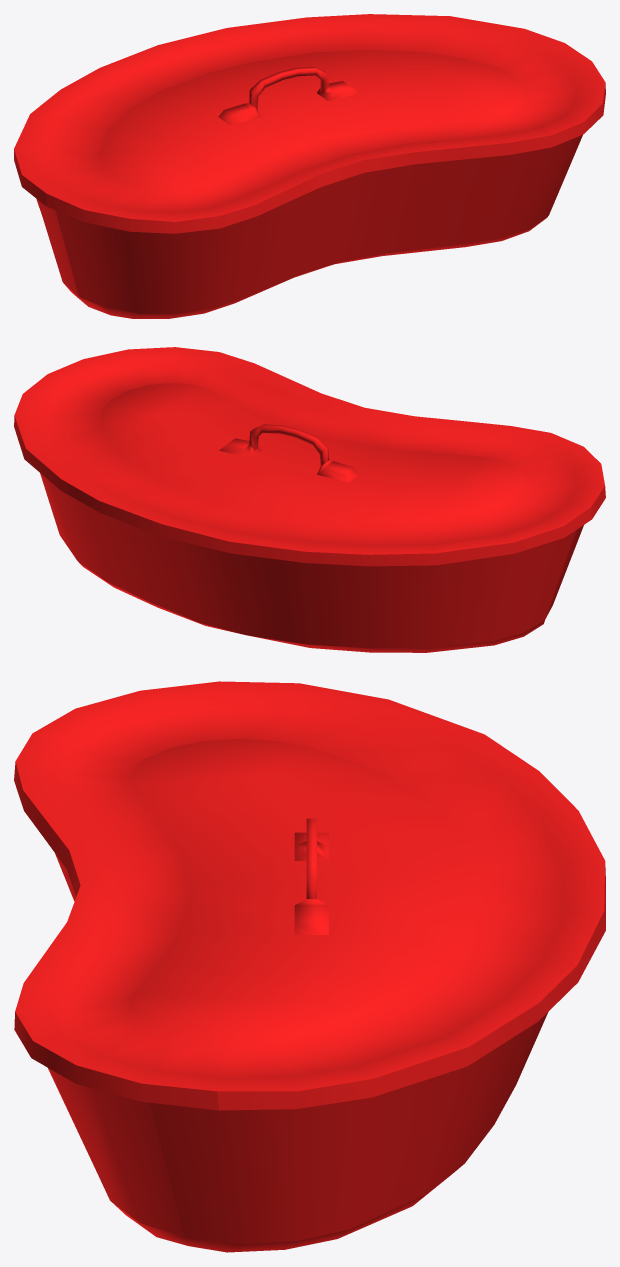
Rendered from SM_Sterilization_Container_17.FBX.
3 views of the same model, one above another, from view 1: azimuth 30°, elevation 25°; view 2: azimuth 150°, elevation 25°; view 3: azimuth 270°, elevation 25° (orthographic). The views are drawn at different scales.
Parts seen in each view (by area): view 1: Sterilization_Container_17_cap, Sterilization_Container_17_body; view 2: Sterilization_Container_17_cap, Sterilization_Container_17_body; view 3: Sterilization_Container_17_cap, Sterilization_Container_17_body.
Part boxes in pixels (x1,y1,x2,y2): Sterilization_Container_17_cap: (14,14,605,233); Sterilization_Container_17_body: (36,135,582,318); Sterilization_Container_17_cap: (14,347,605,566); Sterilization_Container_17_body: (40,473,583,652); Sterilization_Container_17_cap: (14,681,605,1110); Sterilization_Container_17_body: (48,853,548,1252).
Size of the model in its own units: 25.43 by 7.23 by 15.47.
